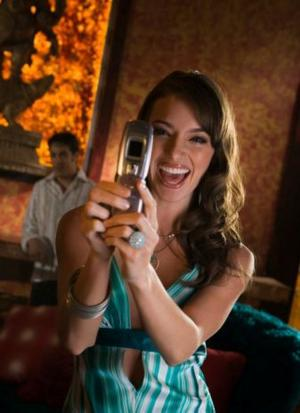person: (56, 69, 255, 413)
